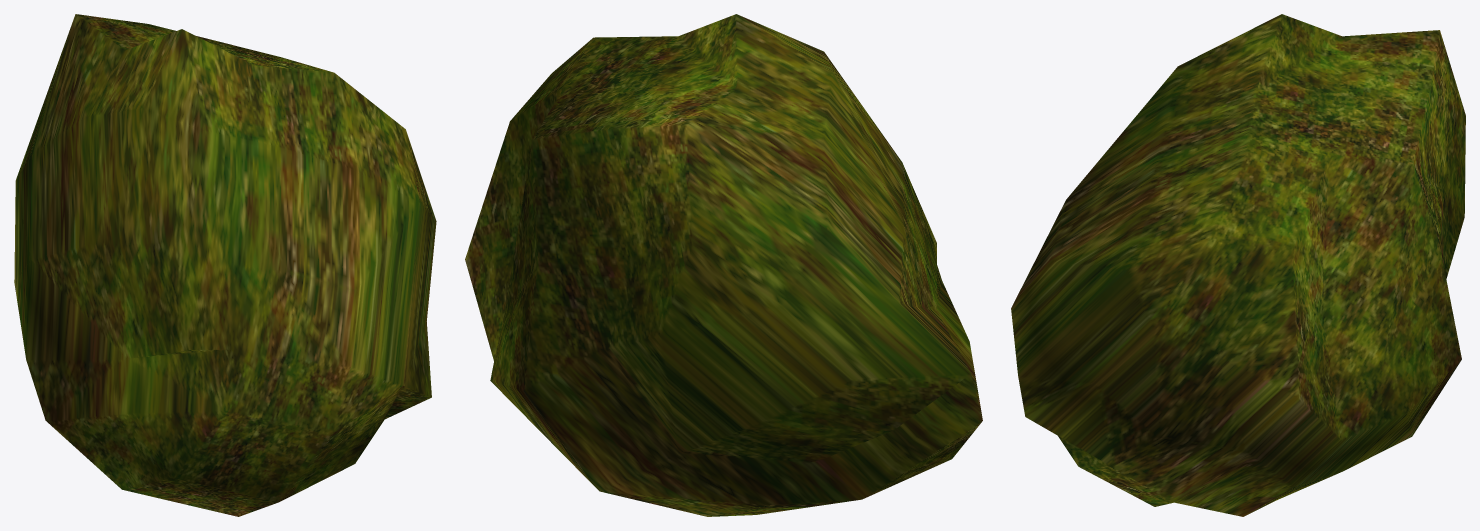
File: TROLLHOLE02_RM_PSURF39.fbx
3 views of the same model, side by side, from view 1: azimuth 30°, elevation 25°; view 2: azimuth 150°, elevation 25°; view 3: azimuth 270°, elevation 25° (orthographic). The views are drawn at different scales.
Visible parts, largest first — view 1: TROLLHOLE02_RM_PSURF39; view 2: TROLLHOLE02_RM_PSURF39; view 3: TROLLHOLE02_RM_PSURF39.
Part boxes in pixels (x1,y1,x2,y2): TROLLHOLE02_RM_PSURF39: (14, 14, 436, 516); TROLLHOLE02_RM_PSURF39: (465, 14, 982, 516); TROLLHOLE02_RM_PSURF39: (1011, 14, 1465, 516).
Size of the model in its own units: 62542 by 66361 by 58169.
1 material, 1 textured.
